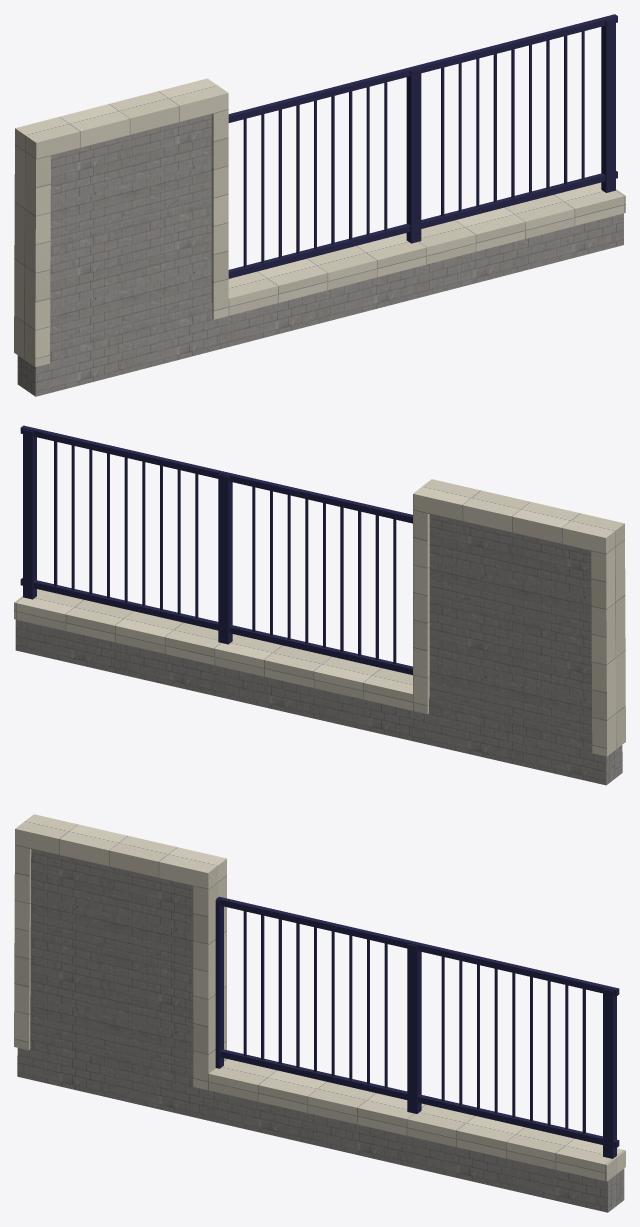
File: weiqiang.glb
3 renders of one model, top to bottom at view 1: azimuth 30°, elevation 25°; view 2: azimuth 150°, elevation 25°; view 3: azimuth 330°, elevation 25°, orthographic. The views are drawn at different scales.
Parts seen in each view (by area): view 1: Line449, Line448, Rectangle2484, Rectangle2485, Rectangle2486, Rectangle2488, Rectangle2481, Rectangle2503, Rectangle2482, Rectangle2489, Rectangle2491, Rectangle2492 (+10 smaller); view 2: Line449, Line448, Rectangle2484, Rectangle2485, Rectangle2486, Rectangle2488, Rectangle2498, Rectangle2482, Rectangle2496, Rectangle2497, Rectangle2499, Rectangle2500 (+8 smaller); view 3: Line449, Line448, Rectangle2484, Rectangle2485, Rectangle2486, Rectangle2488, Rectangle2487, Rectangle2491, Rectangle2482, Rectangle2489, Rectangle2492, Rectangle2493 (+9 smaller).
Boxes of the visible parts, left/top/right/bottom form: Line449: left=17, top=114, right=623, bottom=396; Line448: left=14, top=78, right=625, bottom=366; Rectangle2484: left=228, top=14, right=617, bottom=122; Rectangle2485: left=228, top=171, right=617, bottom=278; Rectangle2486: left=406, top=68, right=421, bottom=243; Rectangle2488: left=601, top=18, right=615, bottom=192; Rectangle2481: left=511, top=49, right=514, bottom=198; Rectangle2503: left=476, top=58, right=479, bottom=207; Rectangle2482: left=296, top=105, right=299, bottom=253; Rectangle2489: left=384, top=82, right=387, bottom=231; Rectangle2491: left=349, top=91, right=352, bottom=240; Rectangle2492: left=331, top=96, right=334, bottom=244; Line449: left=15, top=514, right=622, bottom=785; Line448: left=14, top=479, right=625, bottom=756; Rectangle2484: left=20, top=425, right=412, bottom=523; Rectangle2485: left=20, top=578, right=412, bottom=675; Rectangle2486: left=218, top=474, right=232, bottom=644; Rectangle2488: left=23, top=429, right=36, bottom=599; Rectangle2498: left=54, top=441, right=57, bottom=586; Rectangle2482: left=340, top=507, right=343, bottom=652; Rectangle2496: left=375, top=515, right=378, bottom=660; Rectangle2497: left=393, top=519, right=396, bottom=664; Rectangle2499: left=71, top=445, right=74, bottom=590; Rectangle2500: left=89, top=449, right=92, bottom=594; Line449: left=17, top=849, right=624, bottom=1212; Line448: left=14, top=814, right=625, bottom=1181; Rectangle2484: left=216, top=896, right=619, bottom=996; Rectangle2485: left=220, top=1049, right=619, bottom=1148; Rectangle2486: left=407, top=944, right=421, bottom=1113; Rectangle2488: left=603, top=988, right=616, bottom=1158; Rectangle2487: left=215, top=900, right=223, bottom=1068; Rectangle2491: left=349, top=935, right=352, bottom=1080; Rectangle2482: left=296, top=923, right=299, bottom=1068; Rectangle2489: left=384, top=943, right=387, bottom=1088; Rectangle2492: left=331, top=931, right=334, bottom=1076; Rectangle2493: left=459, top=960, right=462, bottom=1105.
Size of the model in its own units: 2.81 by 1.14 by 0.2373.
Materials: 3 (2 with a texture image).
